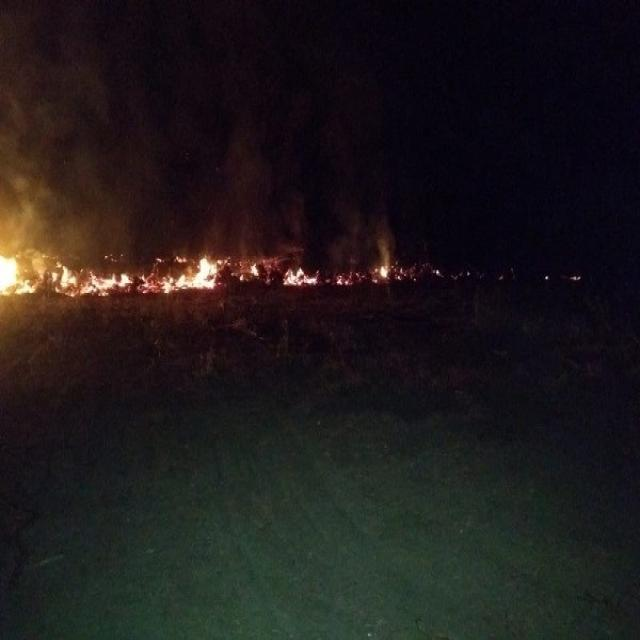Fire: (0, 251, 25, 294), (188, 260, 220, 286)
